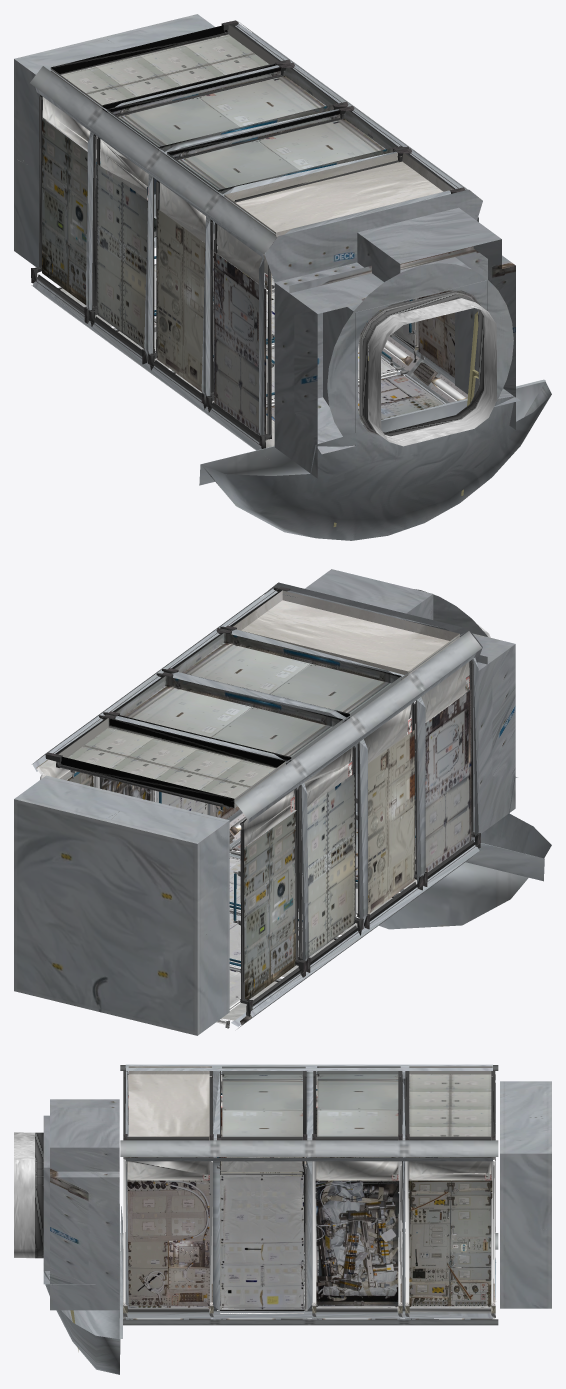
Rendered from eu_lab.dae.
3 renders of one model, top to bottom at view 1: azimuth 30°, elevation 25°; view 2: azimuth 150°, elevation 25°; view 3: azimuth 270°, elevation 25°, orthographic. The views are drawn at different scales.
Parts seen in each view (by area): view 1: Module_Connect_004; view 2: Module_Connect_004; view 3: Module_Connect_004.
Part boxes in pixels (<box>): Module_Connect_004: <box>14,14,551,540</box>; Module_Connect_004: <box>14,569,551,1035</box>; Module_Connect_004: <box>14,1064,551,1374</box>.
Bounding box in the file's own units: 3.6 × 6.03 × 3.19.
8 materials, 8 textured.
